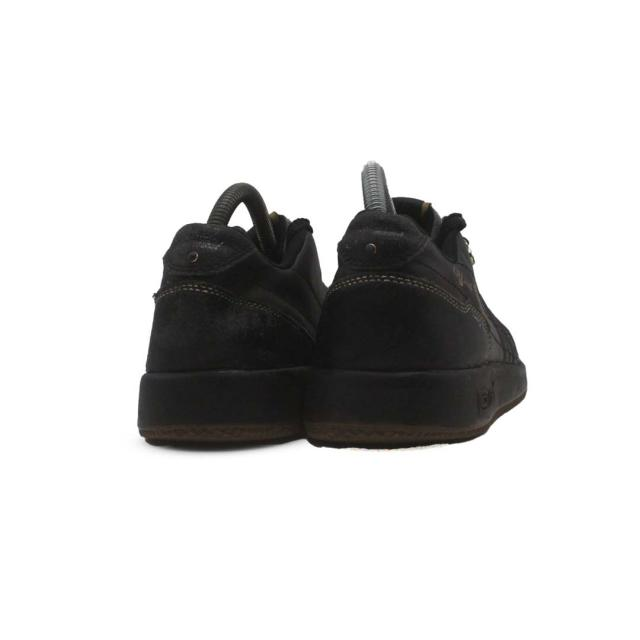heel: (317, 210, 491, 370), (150, 227, 301, 367)
midsole: (308, 364, 525, 439), (135, 366, 302, 439)
